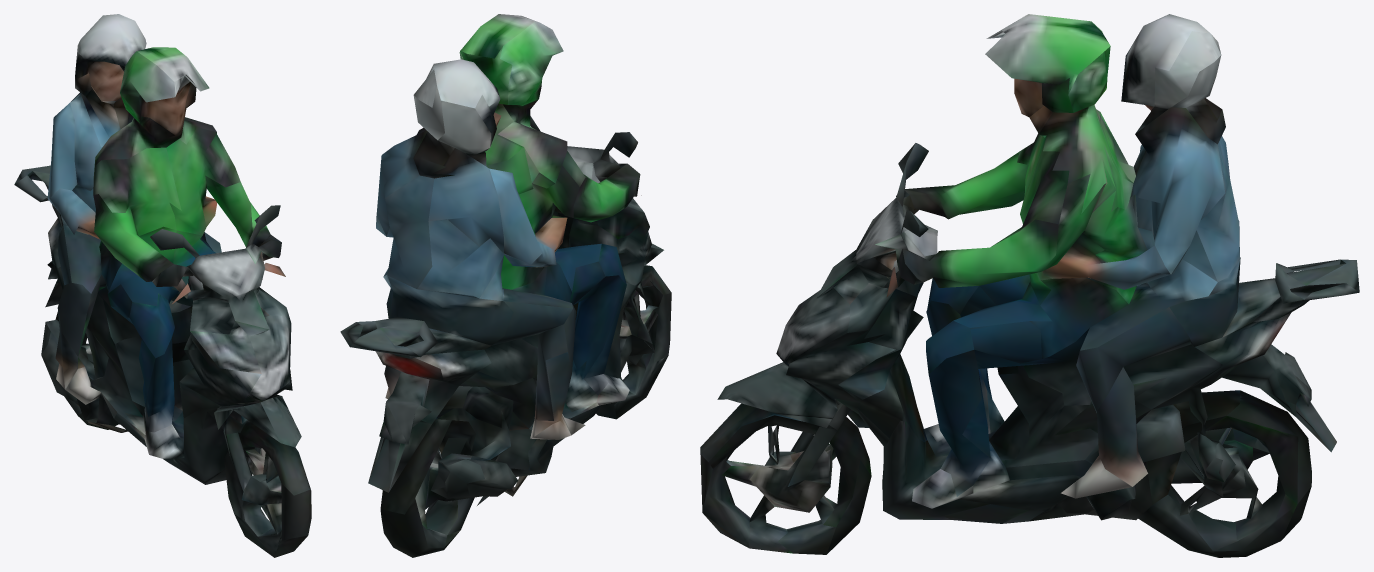
Rendered from gojek_1_lod2.glb.
3 views of the same model, side by side, from view 1: azimuth 30°, elevation 25°; view 2: azimuth 150°, elevation 25°; view 3: azimuth 270°, elevation 25° (orthographic). The views are drawn at different scales.
Visible parts, largest first — view 1: tripo_node_17461b26; view 2: tripo_node_17461b26; view 3: tripo_node_17461b26.
Boxes of the visible parts, bbox=[...] form: tripo_node_17461b26: bbox=[14, 14, 311, 557]; tripo_node_17461b26: bbox=[340, 14, 671, 557]; tripo_node_17461b26: bbox=[700, 14, 1359, 557].
Bounding box in the file's own units: 35.56 × 87.94 × 98.68.
Materials: 1 (1 with a texture image).
